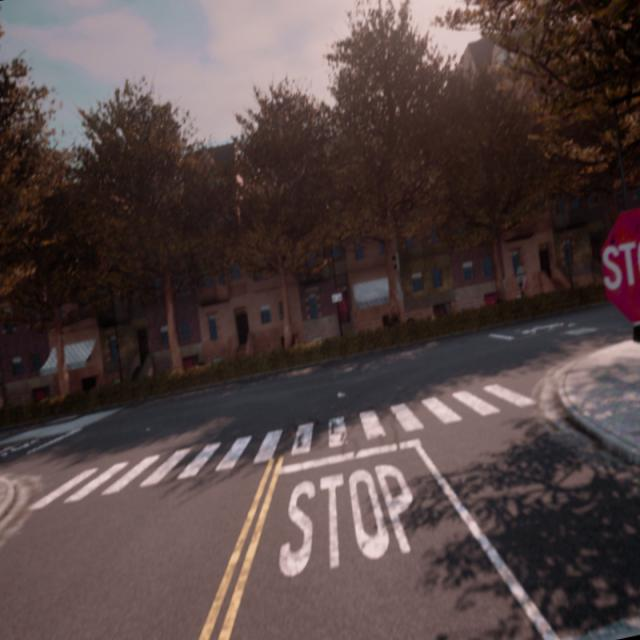stop sign: (596, 200, 639, 328)
